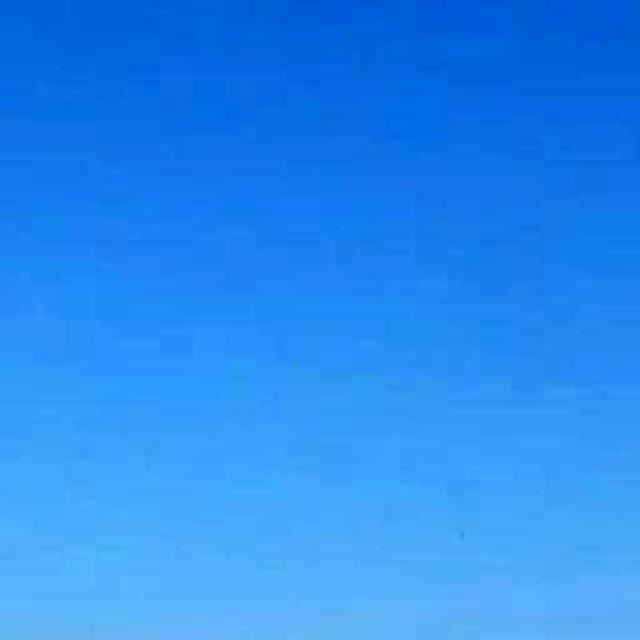drone: (434, 502, 490, 569)
